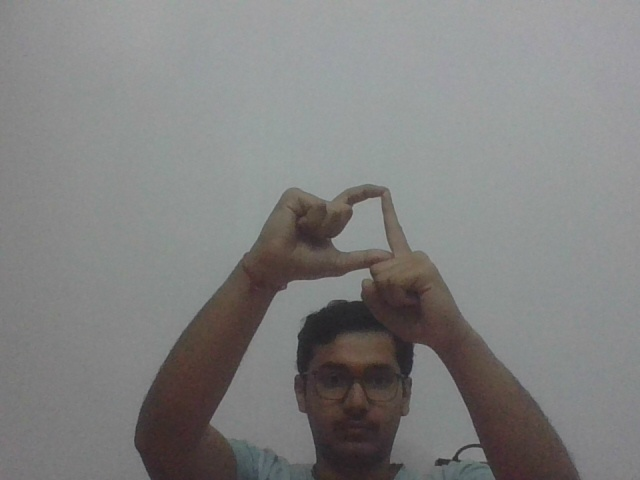D: (268, 181, 461, 327)
